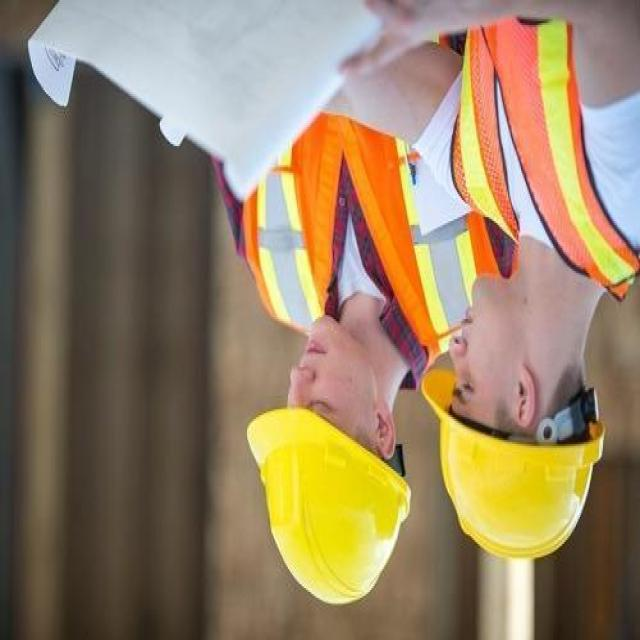helmet: (231, 405, 417, 611), (424, 358, 615, 558)
